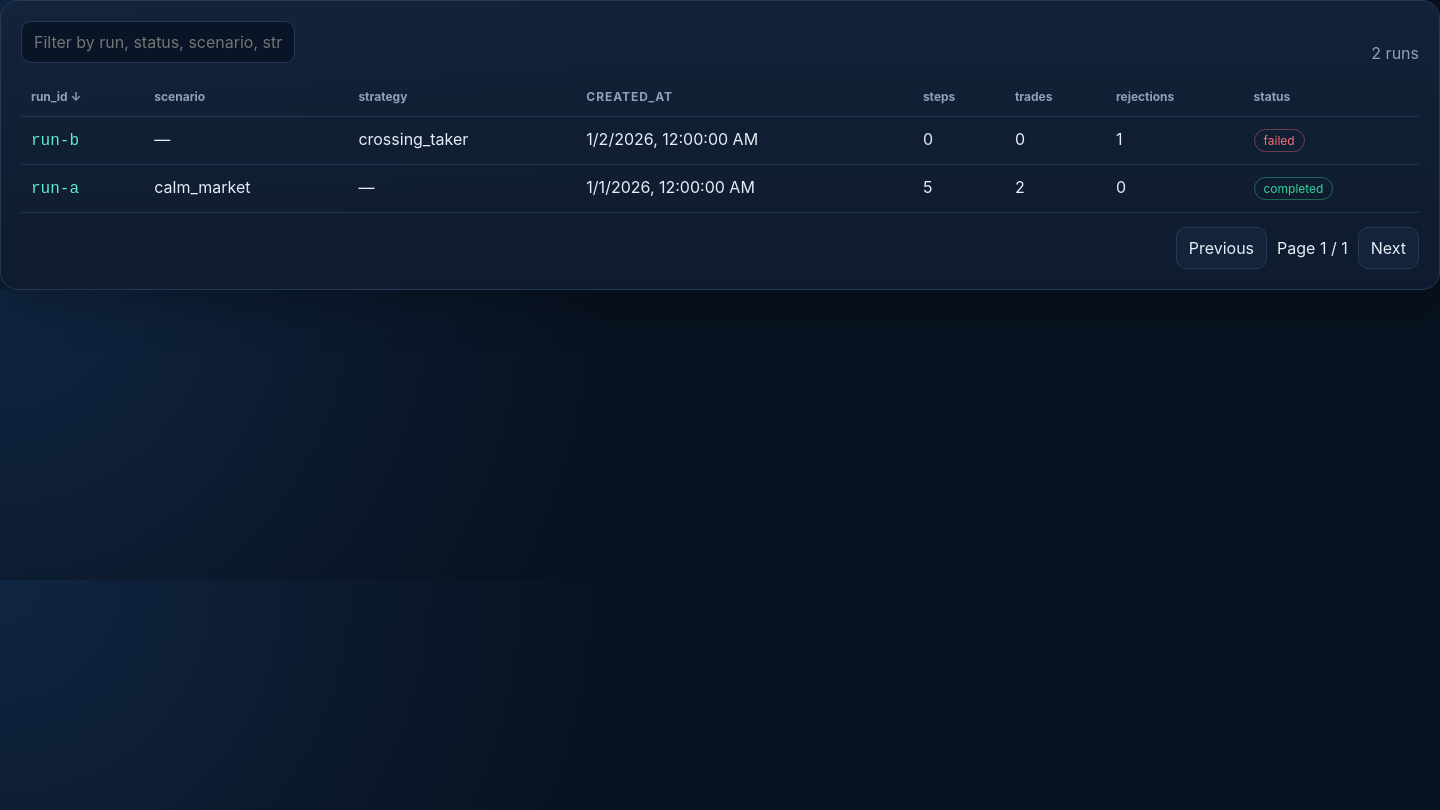
Scenario: RunsTable › renders run rows and filters by symbol
Expected: the link "run-a" is shown, [31,180,79,198]
In the field named "Filter runs": coordinates (158, 42) [21,21,295,63], type "ALT"
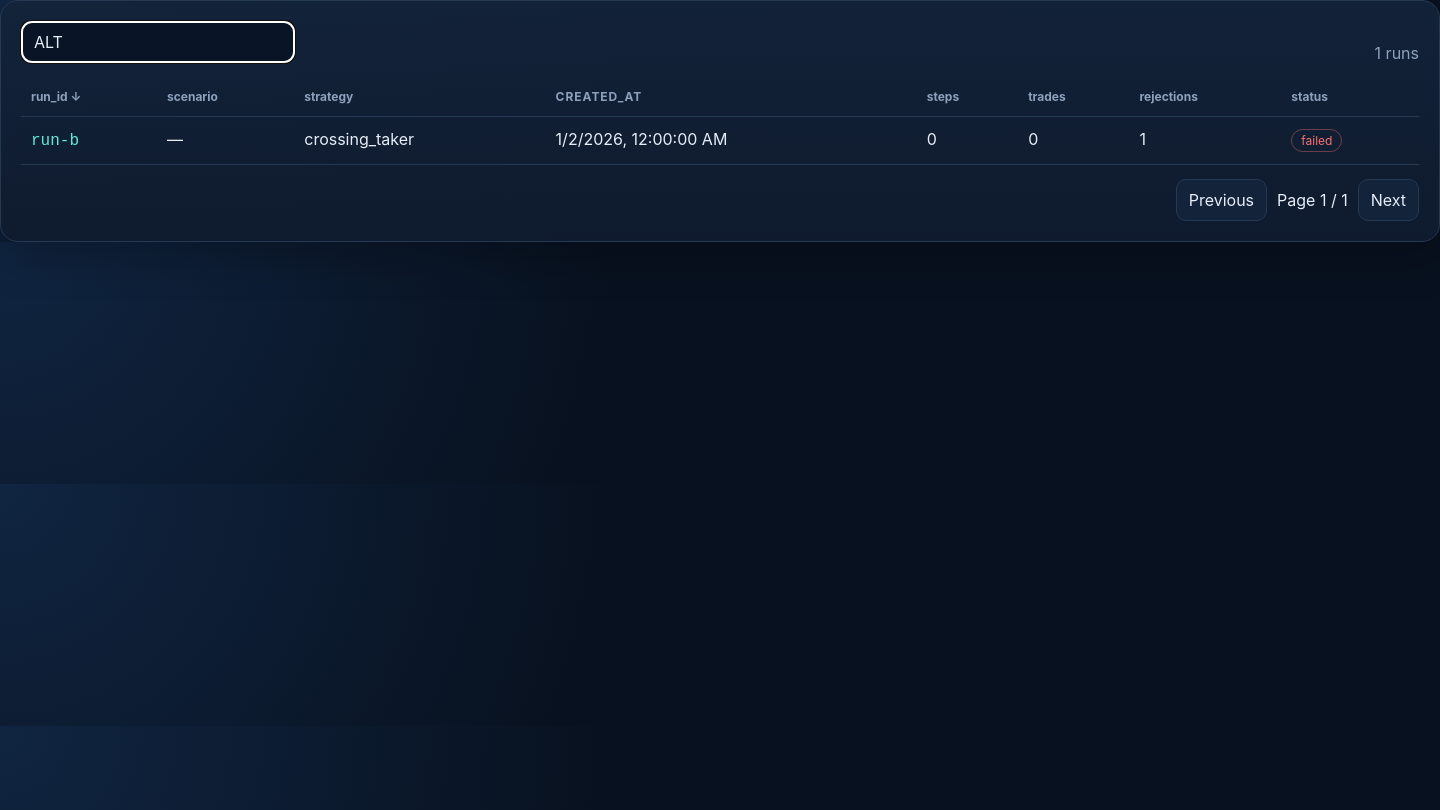
Expected: the link "run-b" is shown, [31,132,79,150]
Result: the link "run-a" is gone
